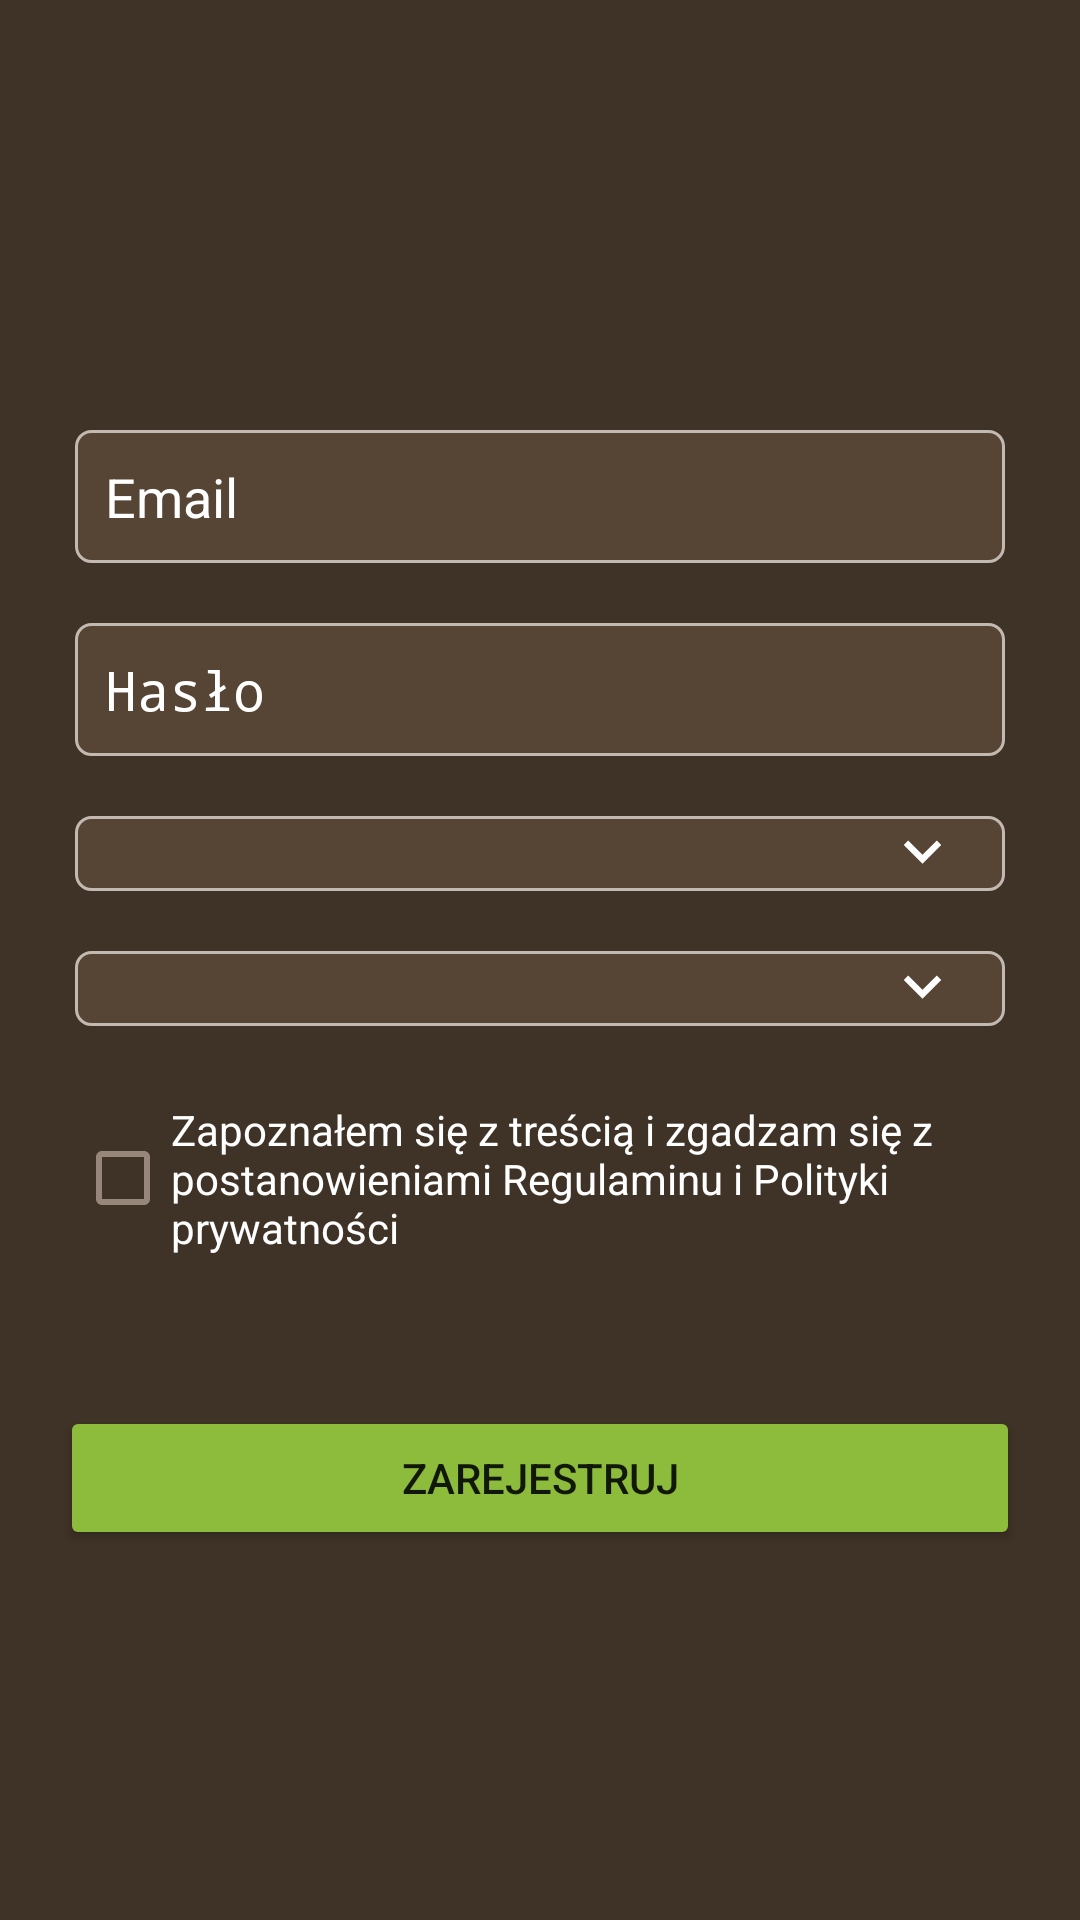

Locate icon controls on the screen. Image size 1080w x 1920h, boxes as bbox(x1, y1, x2, y2).
keyboard arrow down: bbox(885, 816, 960, 891), bbox(885, 951, 960, 1026)
